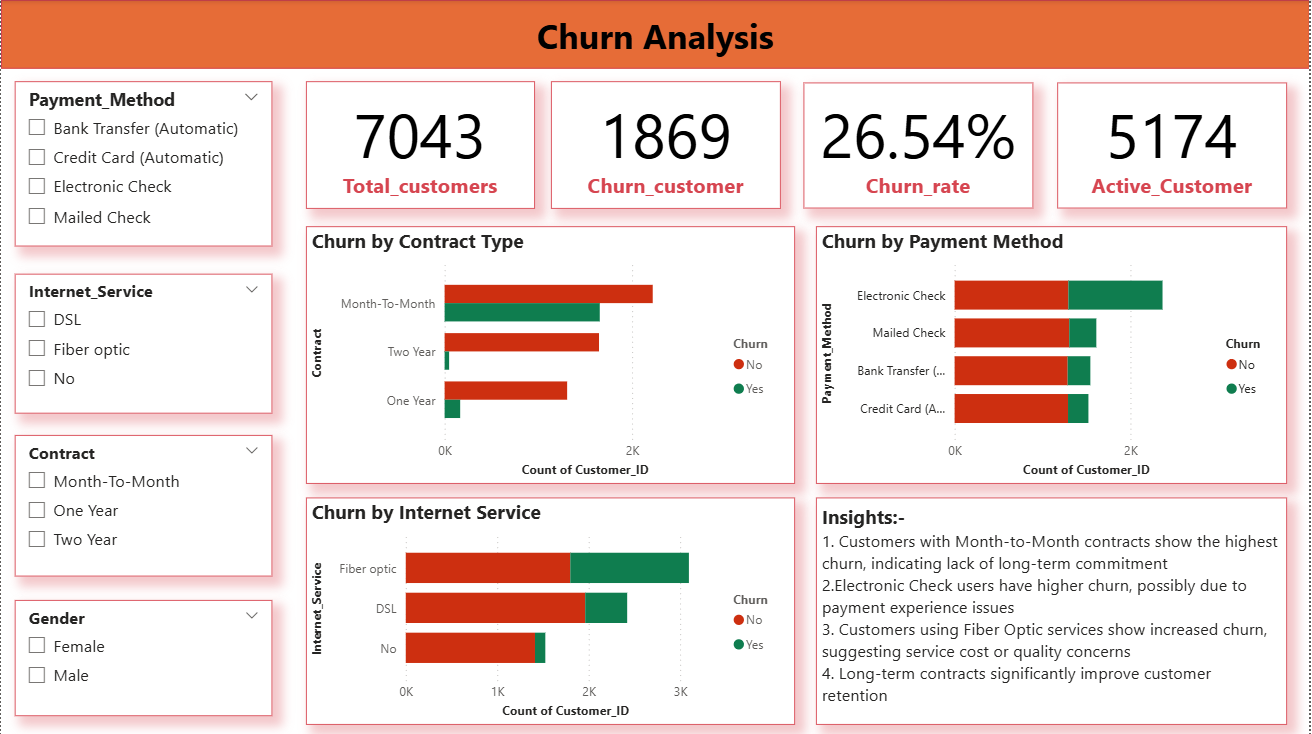

Layout of this report page (visuals, bound fields, positions):
{"tool":"powerbi","page":{"name":"Page 4","canvas":[1280,720],"ordinal":3},"visuals":[{"type":"shape","box":[0,0,1280.3,67.3],"z":0},{"type":"card","fields":{"Values":["Telco_Customer_Churn_Dataset.Total_customers"]},"box":[298.4,79.5,223.8,124.7],"z":1000},{"type":"card","fields":{"Values":["Telco_Customer_Churn_Dataset.Churn_customer"]},"box":[538,79.5,225,124.7],"z":2000},{"type":"card","fields":{"Values":["Telco_Customer_Churn_Dataset.Churn_rate"]},"box":[785.1,80.7,225,123.5],"z":3000},{"type":"card","fields":{"Values":["Telco_Customer_Churn_Dataset.Active_Customer"]},"box":[1033.3,80.7,225,123.5],"z":4000},{"type":"clusteredBarChart","title":"Churn by Contract Type","fields":{"Category":["Telco_Customer_Churn_Dataset.Contract"],"Y":["CountNonNull(Telco_Customer_Churn_Dataset.Customer_ID)"],"Series":["Telco_Customer_Churn_Dataset.Churn"]},"box":[298.4,221.3,478.1,251.9],"z":5000},{"type":"barChart","title":"Churn by Payment Method ","fields":{"Y":["CountNonNull(Telco_Customer_Churn_Dataset.Customer_ID)"],"Series":["Telco_Customer_Churn_Dataset.Churn"],"Category":["Telco_Customer_Churn_Dataset.Payment_Method"]},"box":[797.3,221.3,461,251.9],"z":6000},{"type":"barChart","title":"Churn by Internet Service ","fields":{"Y":["CountNonNull(Telco_Customer_Churn_Dataset.Customer_ID)"],"Series":["Telco_Customer_Churn_Dataset.Churn"],"Category":["Telco_Customer_Churn_Dataset.Internet_Service"]},"box":[298.4,486.7,478.1,222.6],"z":7000},{"type":"slicer","fields":{"Values":["Telco_Customer_Churn_Dataset.Contract"]},"box":[13.5,425.5,251.9,138.2],"z":8000},{"type":"slicer","fields":{"Values":["Telco_Customer_Churn_Dataset.Payment_Method"]},"box":[13.5,79.5,251.9,161.4],"z":9000},{"type":"slicer","fields":{"Values":["Telco_Customer_Churn_Dataset.Internet_Service"]},"box":[13.5,267.8,251.9,137],"z":10000},{"type":"slicer","fields":{"Values":["Telco_Customer_Churn_Dataset.Gender"]},"box":[13.5,587,251.9,113.7],"z":11000},{"type":"textbox","box":[797.3,486.7,461,222.6],"z":12000}]}

Visuals, with their boxes in screenshot pixels (x1, y1, x2, y2), scaled from the page's 1280x720 canvas onto the 1312x734 screenshot:
shape: x1=0 y1=0 x2=1311 y2=69
card - Telco_Customer_Churn_Dataset.Total_customers: x1=306 y1=81 x2=535 y2=208
card - Telco_Customer_Churn_Dataset.Churn_customer: x1=551 y1=81 x2=782 y2=208
card - Telco_Customer_Churn_Dataset.Churn_rate: x1=805 y1=82 x2=1035 y2=208
card - Telco_Customer_Churn_Dataset.Active_Customer: x1=1059 y1=82 x2=1290 y2=208
"Churn by Contract Type" clusteredBarChart: x1=306 y1=226 x2=796 y2=482
"Churn by Payment Method " barChart: x1=817 y1=226 x2=1290 y2=482
"Churn by Internet Service " barChart: x1=306 y1=496 x2=796 y2=723
slicer - Telco_Customer_Churn_Dataset.Contract: x1=14 y1=434 x2=272 y2=575
slicer - Telco_Customer_Churn_Dataset.Payment_Method: x1=14 y1=81 x2=272 y2=246
slicer - Telco_Customer_Churn_Dataset.Internet_Service: x1=14 y1=273 x2=272 y2=413
slicer - Telco_Customer_Churn_Dataset.Gender: x1=14 y1=598 x2=272 y2=714
textbox: x1=817 y1=496 x2=1290 y2=723
